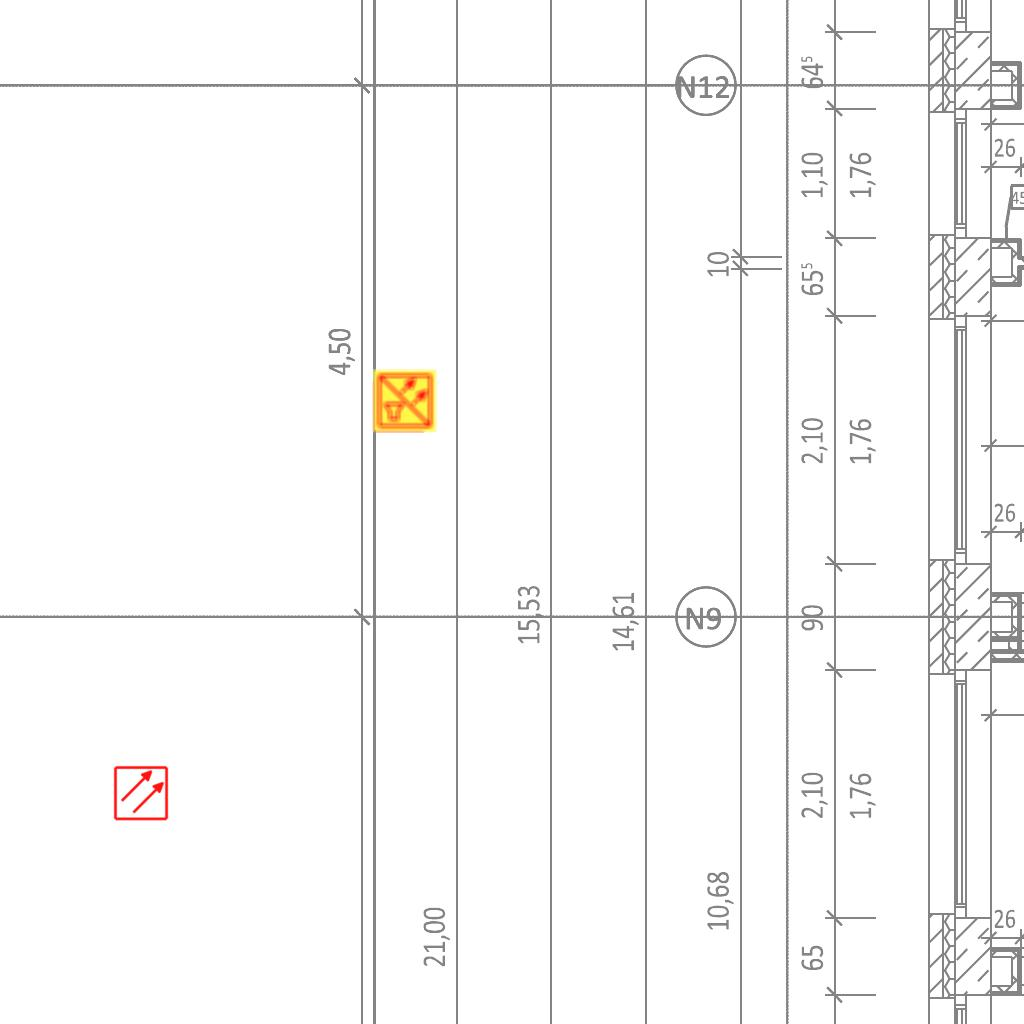OKW_Multisensormelder_(Kombination_optischer_Rauch-Kahlenmonoxid_Waerme-Melder): (372, 368, 438, 434)
RMO_Rauchmelder_optischer: (113, 765, 169, 821)
